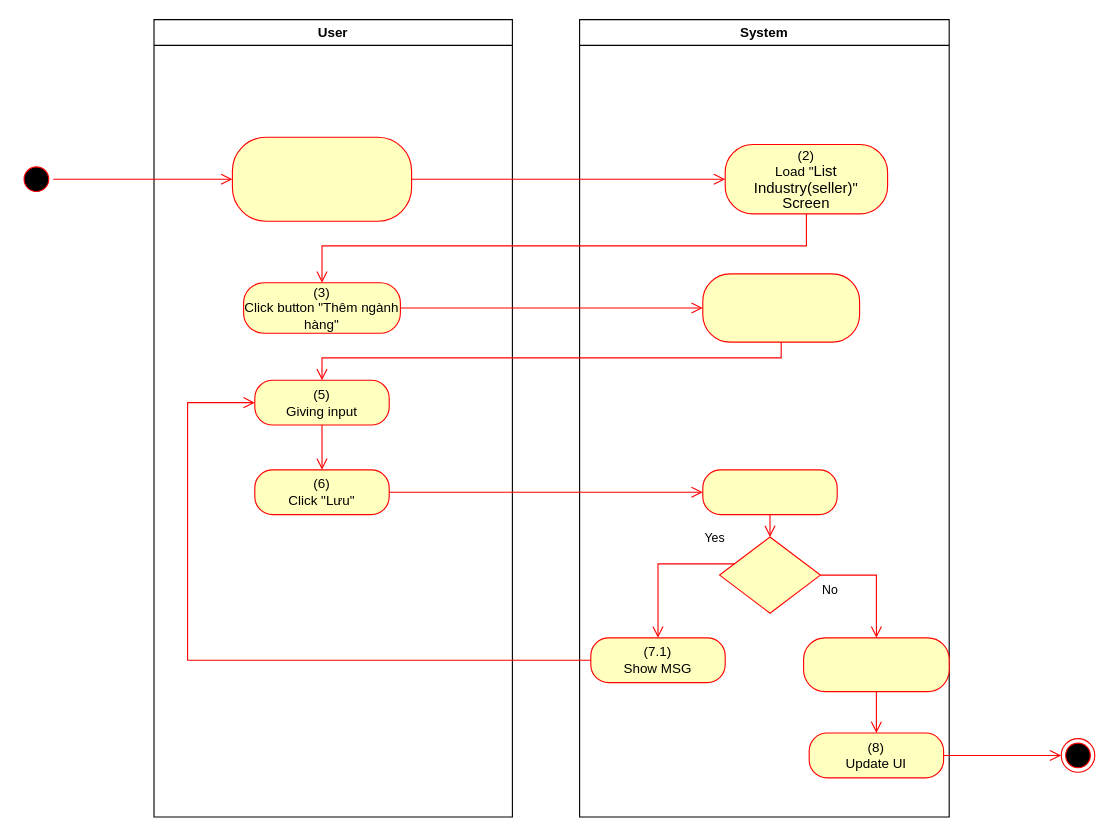
The diagram is 1114 pixels wide and 837 high, and some of its shapes have lost their labels. The centre of each missing label's shape, as x and y in pixels:
(1) On "left menu" click " Product Management – List Industry ": point (321, 178)
(4) Load " CRUD Industry ": point (781, 307)
(7) Validate: point (769, 492)
(7.2) Push new industry to DB: point (875, 664)
